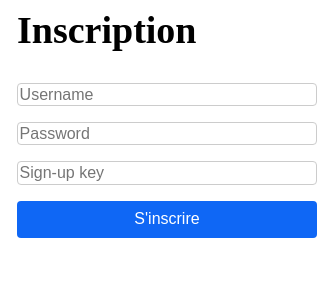
Signup Component › shows an error message if fields are empty on submission
This screenshot has width=335, height=294.
Click the button "S'inscrire": (167, 219) left=17, top=201, right=317, bottom=238
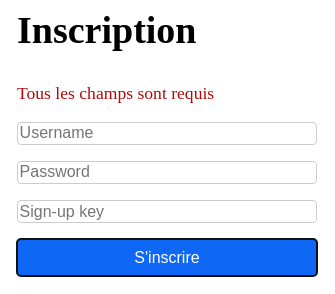
Expected: the text "Tous les champs sont requis" is shown, left=17, top=83, right=214, bottom=103
